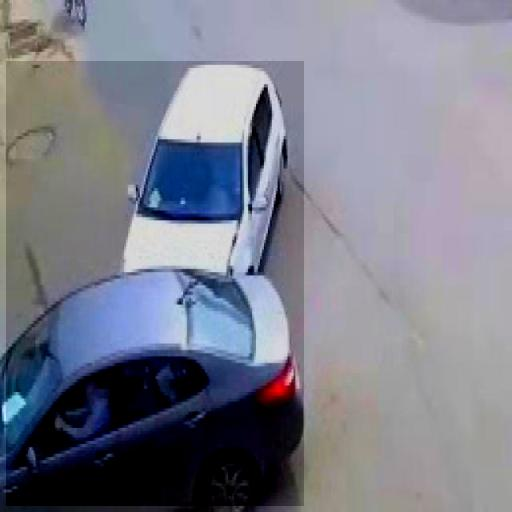小汽车撞小汽车: (6, 61, 304, 506)
